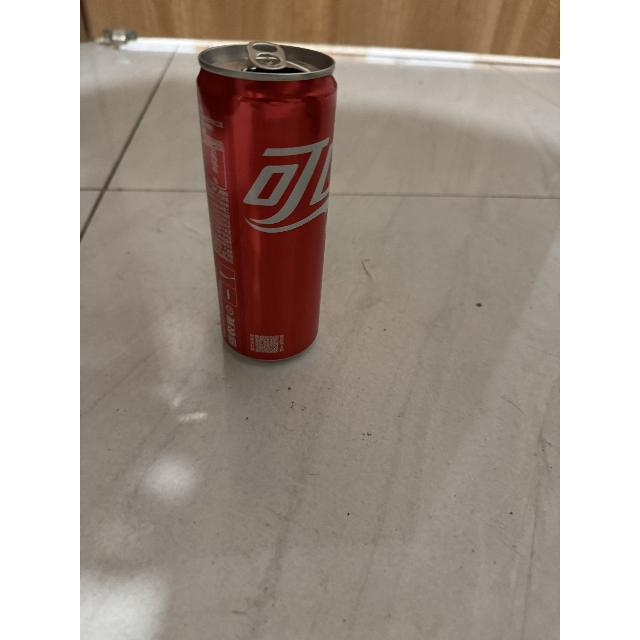coca-cola: (193, 31, 341, 370)
